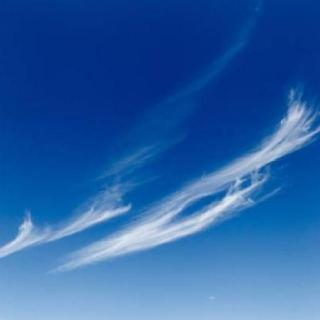Cirrostratus: (0, 68, 320, 284)
